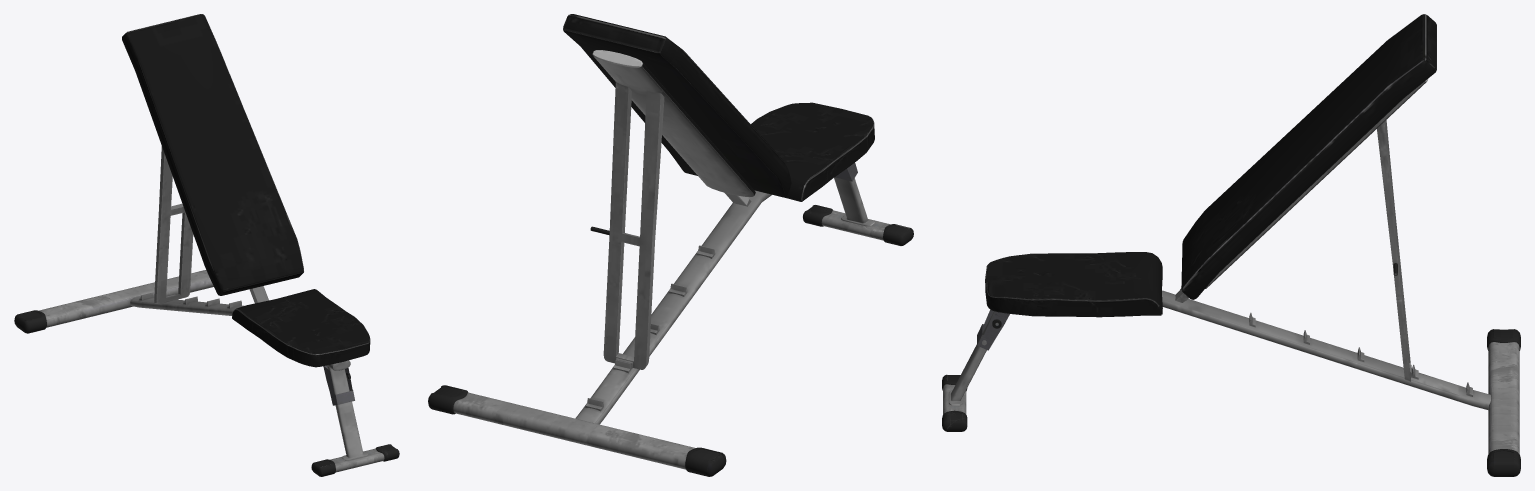
File: incline-bench.glb
3 renders of one model, left to right at view 1: azimuth 30°, elevation 25°; view 2: azimuth 150°, elevation 25°; view 3: azimuth 270°, elevation 25°, orthographic. The views are drawn at different scales.
Parts seen in each view (by area): view 1: Cube.031, Cube.030, Cube.029, front foot_low.005, frame_low.002, front leg_low.002, front foot_low.004, Cube.028; view 2: Cube.029, Cube.031, Cube.030, front foot_low.005, frame_low.002, front foot_low.004, front leg_low.002; view 3: Cube.031, Cube.030, frame_low.002, front foot_low.005, Cube.029, front foot_low.004, front leg_low.002, Cube.028.
Boxes of the visible parts, bbox=[...] form: Cube.031: bbox=[122, 14, 303, 295]; Cube.030: bbox=[232, 289, 370, 367]; Cube.029: bbox=[154, 146, 268, 303]; front foot_low.005: bbox=[14, 270, 213, 333]; frame_low.002: bbox=[130, 292, 350, 370]; front leg_low.002: bbox=[326, 365, 368, 460]; front foot_low.004: bbox=[311, 444, 399, 476]; Cube.028: bbox=[323, 365, 354, 405]; Cube.029: bbox=[590, 50, 755, 369]; Cube.031: bbox=[563, 14, 791, 197]; Cube.030: bbox=[751, 102, 874, 201]; front foot_low.005: bbox=[428, 385, 726, 476]; frame_low.002: bbox=[575, 190, 771, 424]; front foot_low.004: bbox=[803, 205, 913, 245]; front leg_low.002: bbox=[834, 177, 874, 226]; Cube.031: bbox=[1181, 14, 1436, 299]; Cube.030: bbox=[985, 252, 1162, 317]; frame_low.002: bbox=[1162, 290, 1490, 409]; front foot_low.005: bbox=[1487, 329, 1520, 476]; Cube.029: bbox=[1175, 79, 1427, 381]; front foot_low.004: bbox=[942, 374, 967, 431]; front leg_low.002: bbox=[949, 312, 993, 405]; Cube.028: bbox=[977, 310, 1009, 350].
Bounding box in the file's own units: 0.8564 × 1.1 × 1.54.
1 material, 1 textured.
